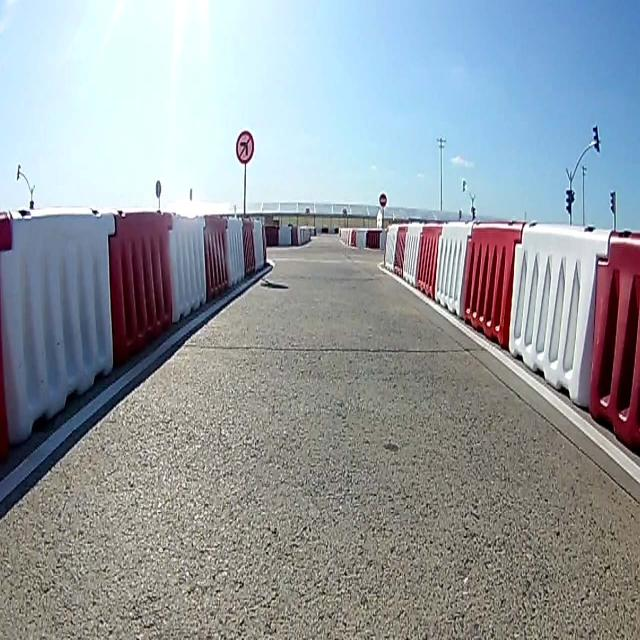girisyok: (379, 192, 387, 206)
soladonulmez: (236, 130, 256, 166)
